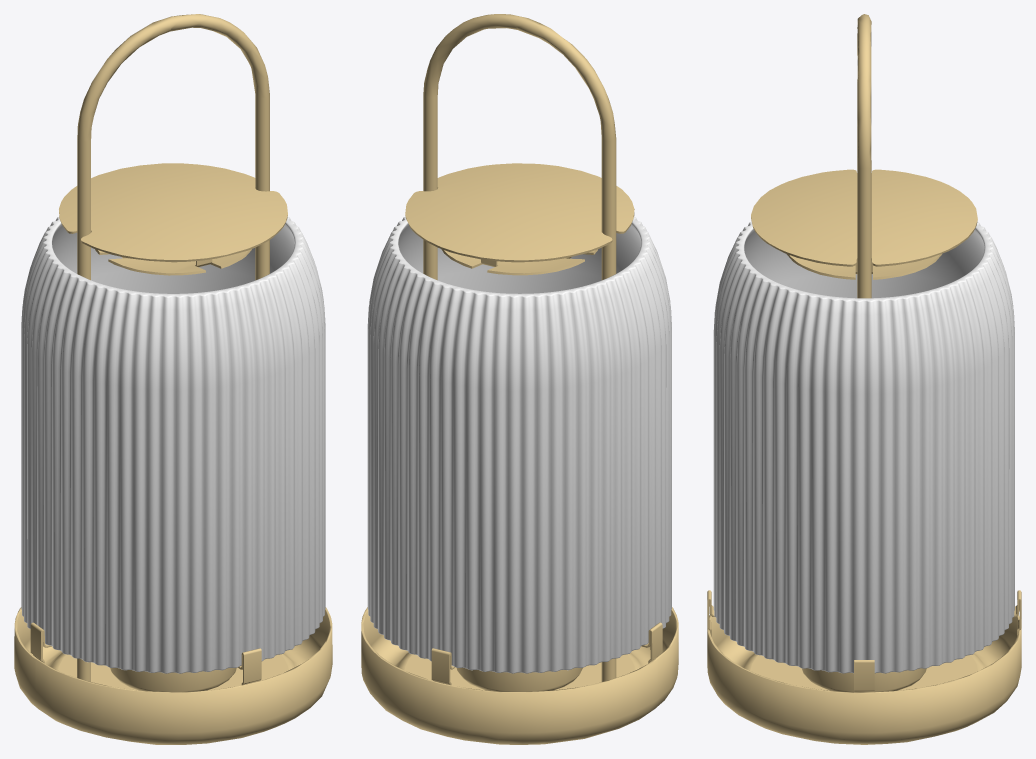
Rendered from kungstarna_latarenka_50634453.glb.
3 views of the same model, side by side, from view 1: azimuth 30°, elevation 25°; view 2: azimuth 150°, elevation 25°; view 3: azimuth 270°, elevation 25° (orthographic).
Parts seen in each view (by area): view 1: kungstarna_latarenka_50634453; view 2: kungstarna_latarenka_50634453; view 3: kungstarna_latarenka_50634453.
Boxes of the visible parts, x1,y1,x2,y2 form: kungstarna_latarenka_50634453: [14, 14, 332, 744]; kungstarna_latarenka_50634453: [361, 14, 678, 744]; kungstarna_latarenka_50634453: [707, 14, 1021, 744].
Size of the model in its own units: 0.1081 by 0.2506 by 0.1081.
Materials: 2 (2 with a texture image).
